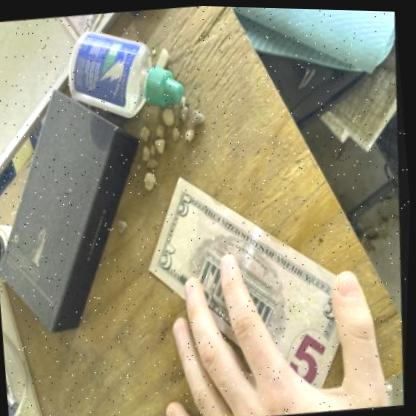dollar_back: (153, 174, 363, 403)
